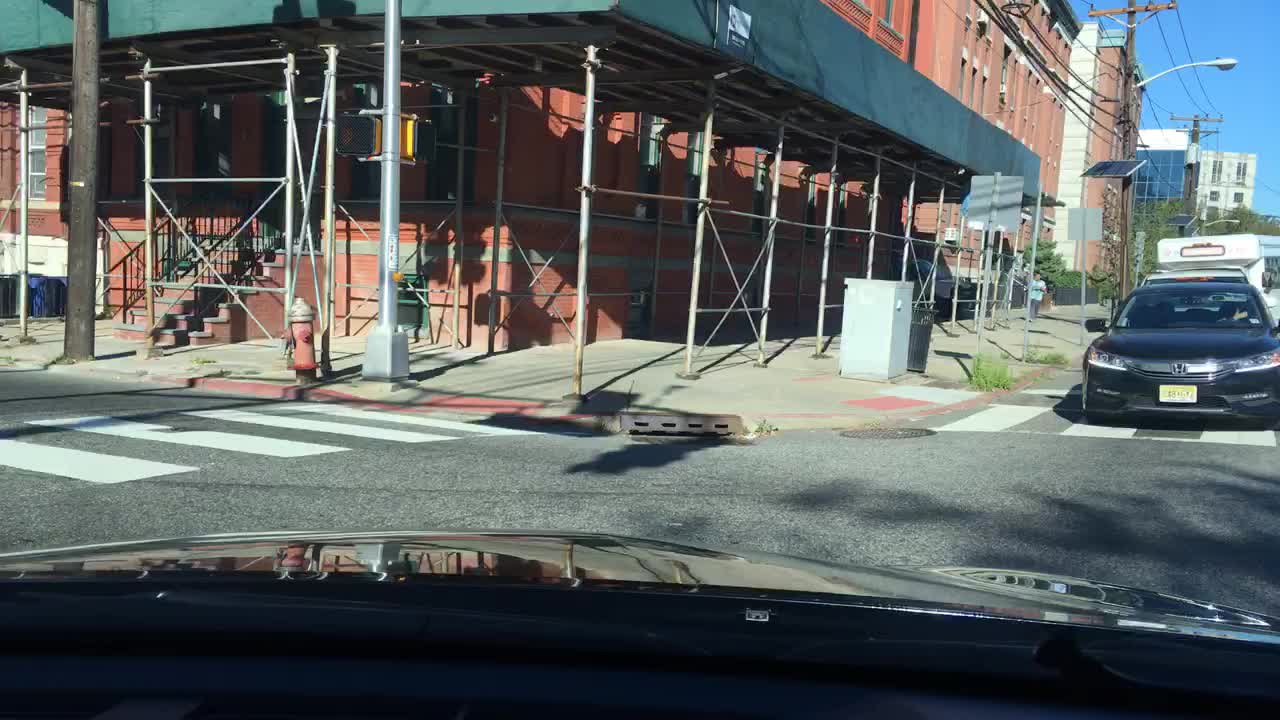car: (1079, 264, 1278, 427), (1153, 233, 1278, 335), (892, 249, 975, 319)
person: (1020, 267, 1046, 320)
traffic light: (333, 111, 382, 160), (400, 114, 439, 167)
traffic sign: (1067, 206, 1116, 211)
